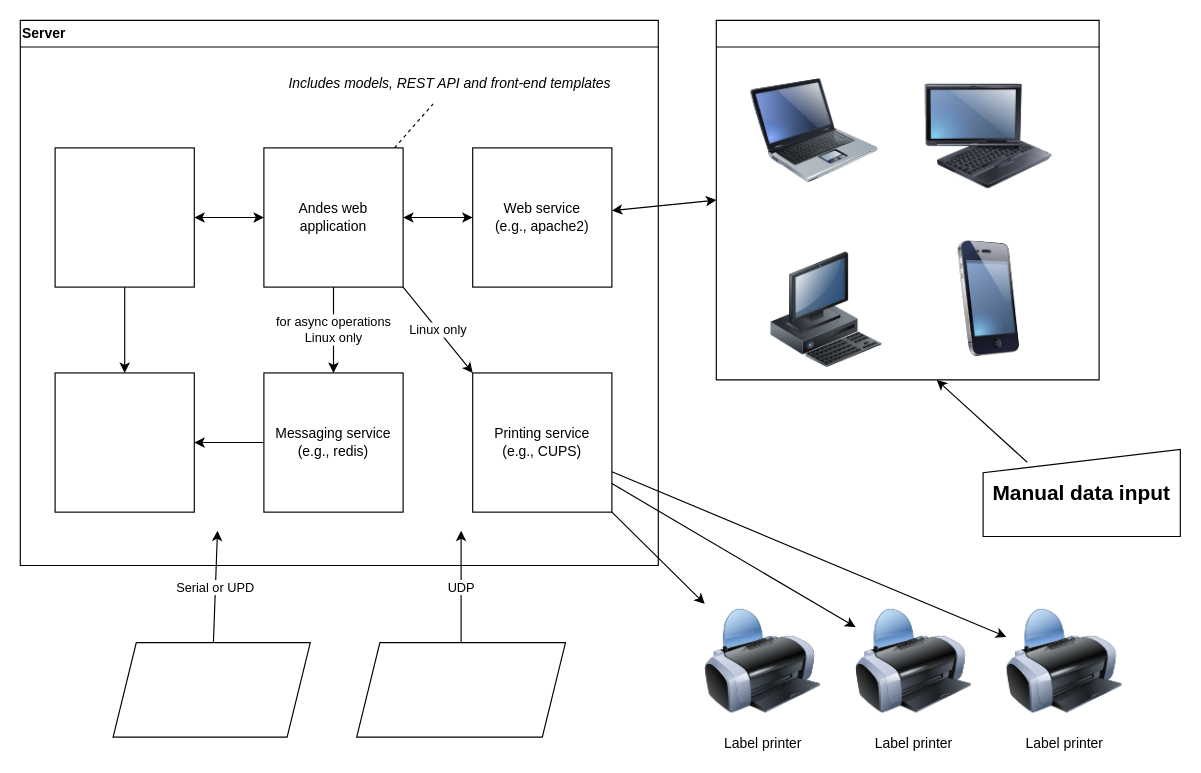
The diagram is 1201 pixels wide and 773 high, and some of its shapes have lost their labels. Each missing label, with the box of its shape:
Andes Celery service: (54, 372, 194, 512)
Client Devices: (715, 19, 1099, 380)
Database service (e.g., mysql, sqlite): (54, 147, 194, 287)
Navigational data: (112, 641, 310, 737)
Sensor data (e.g., sonar, scanmar): (356, 641, 566, 737)
